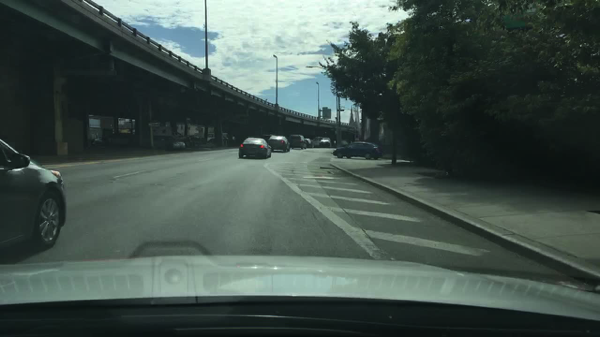car: (0, 139, 68, 254), (332, 141, 384, 161), (237, 139, 272, 159), (154, 134, 186, 151), (268, 134, 290, 151), (288, 134, 307, 148), (91, 136, 106, 146), (319, 139, 331, 147), (312, 137, 321, 147), (304, 139, 314, 148)
traffic sign: (323, 107, 330, 118)
